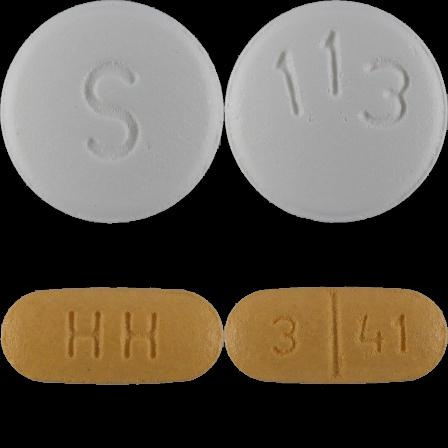43547-362: (0, 0, 224, 224)
